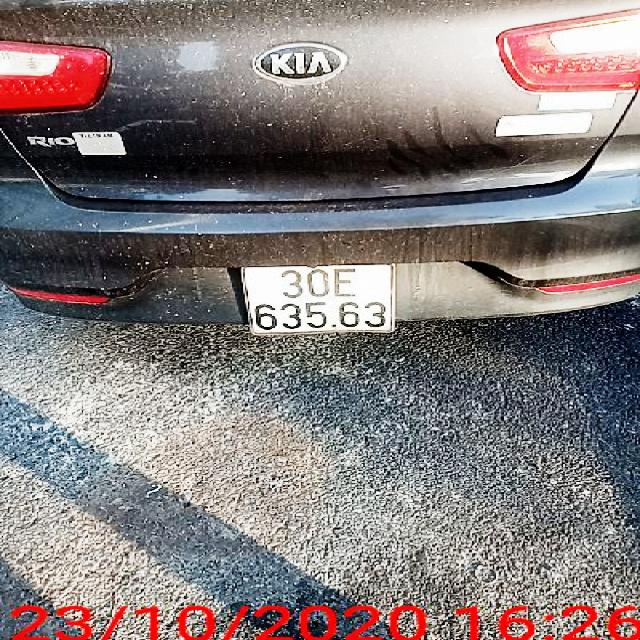license_plate: (248, 265, 395, 334)
